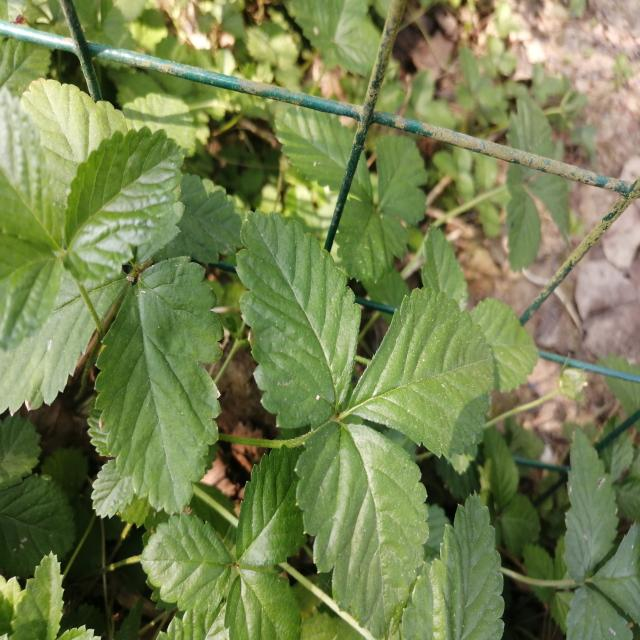Mock_strawberry: (226, 172, 487, 577)
